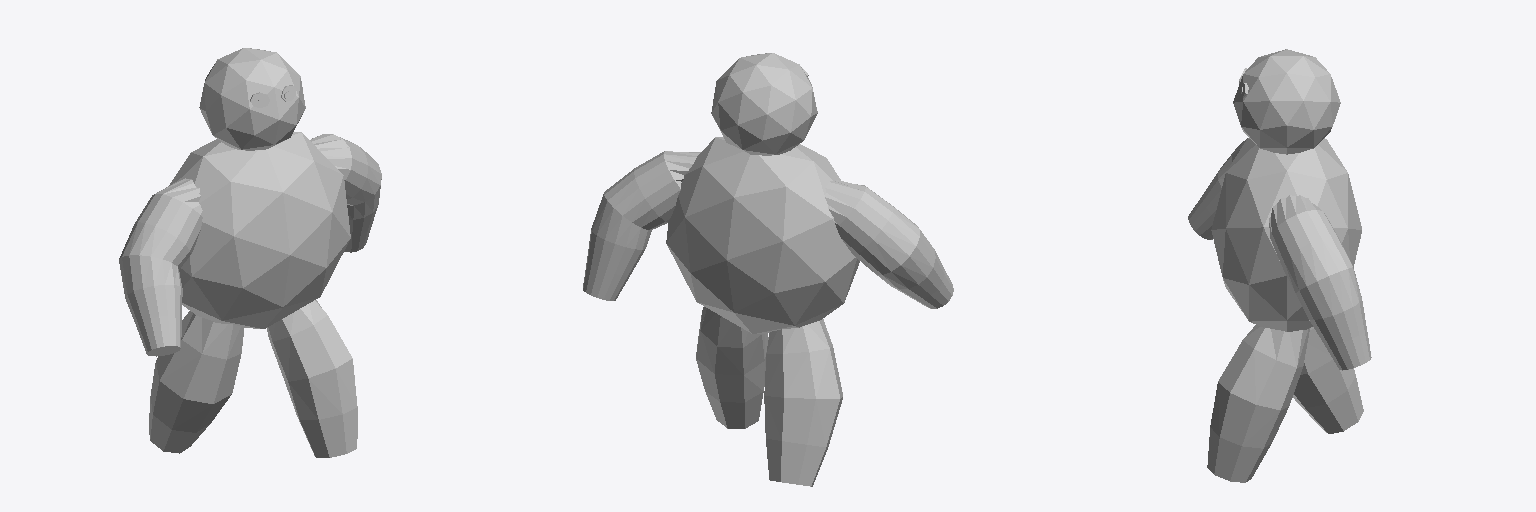
File: bigboi_000030.obj
3 views of the same model, side by side, from view 1: azimuth 30°, elevation 25°; view 2: azimuth 150°, elevation 25°; view 3: azimuth 270°, elevation 25° (orthographic).
Visible parts, largest first — view 1: Icosphere_bigboi; view 2: Icosphere_bigboi; view 3: Icosphere_bigboi.
Boxes of the visible parts, <box> form: Icosphere_bigboi: <box>119,48,381,457</box>; Icosphere_bigboi: <box>583,53,953,486</box>; Icosphere_bigboi: <box>1188,49,1371,482</box>.
Bounding box in the file's own units: 6.28 × 8.17 × 3.4.